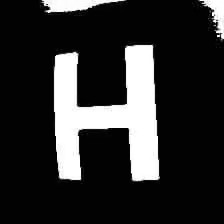LTR_H: (42, 29, 178, 189)
